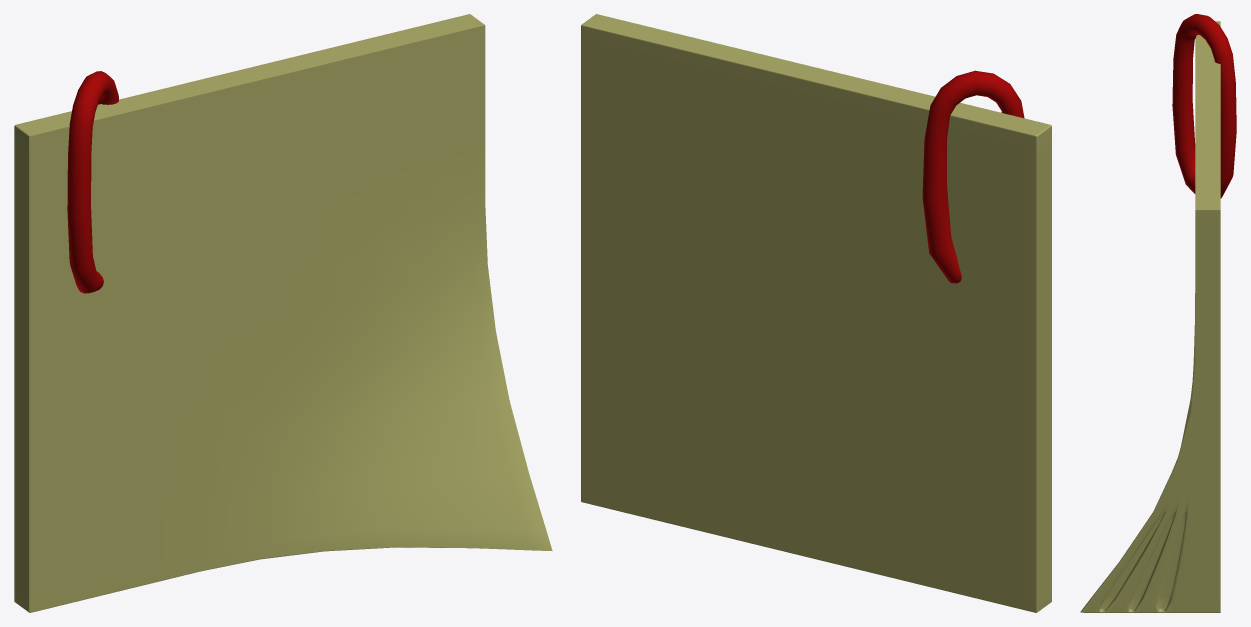
File: Sticky_Note.glb
The picture shows the model from 3 angles, left to right: view 1: azimuth 30°, elevation 25°; view 2: azimuth 150°, elevation 25°; view 3: azimuth 270°, elevation 25°; orthographic projection. The views are drawn at different scales.
Visible parts, largest first — view 1: StickyNote_Smooth; view 2: StickyNote_Smooth; view 3: StickyNote_Smooth.
Part boxes in pixels (box(x1,y1,x2,y2)): StickyNote_Smooth: box(14, 14, 552, 612); StickyNote_Smooth: box(581, 14, 1051, 612); StickyNote_Smooth: box(1080, 14, 1236, 612).
Size of the model in its own units: 0.0571 by 0.062 by 0.0201.
